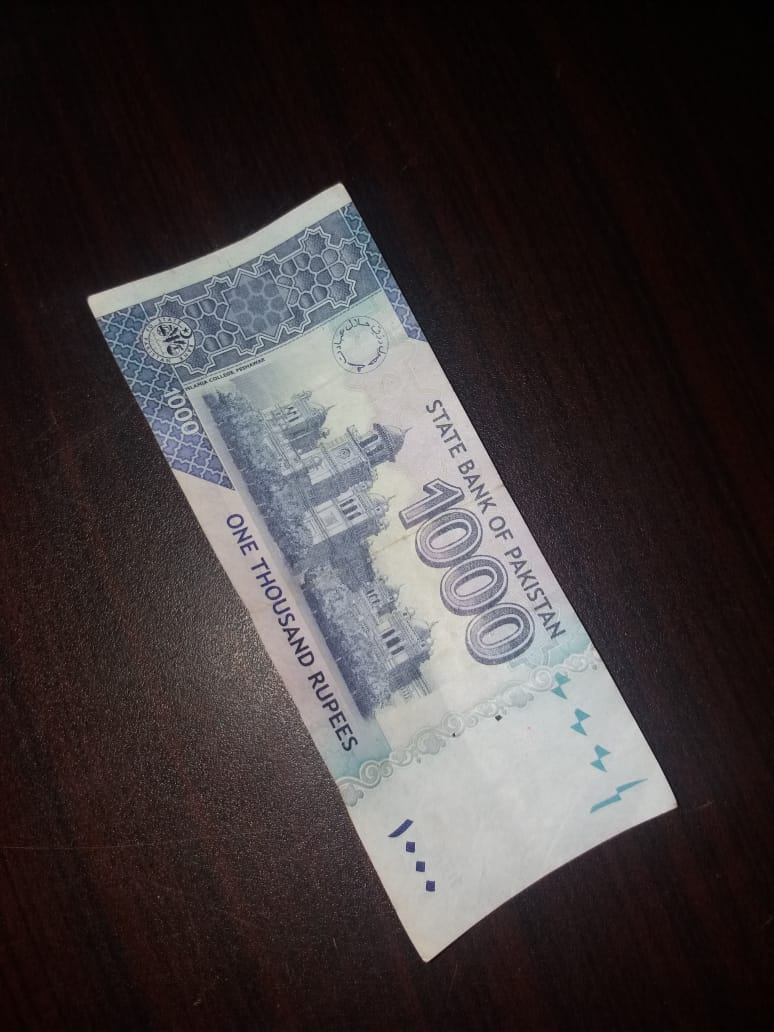1000 rupee: (60, 169, 683, 971)
